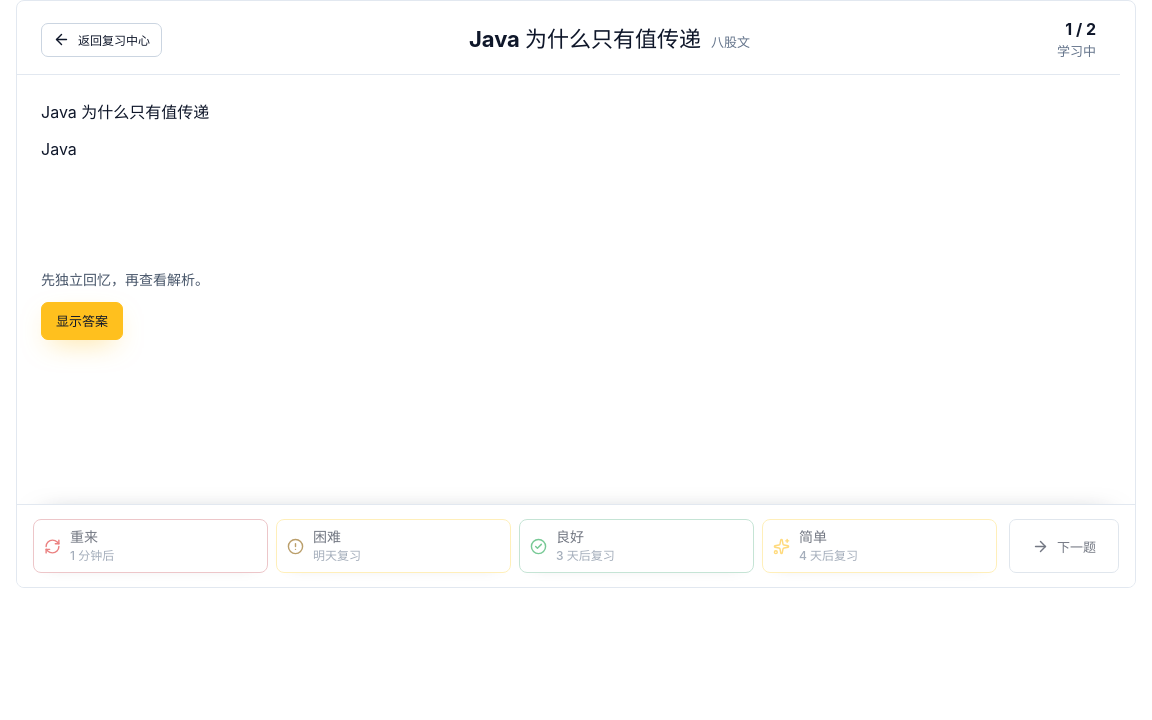
Test: 统一知识卡复习工作台 › 下一张重新隐藏答案，清空评级，加载新的详情和预览
Click the button "显示答案" at (82, 320), box [41, 302, 123, 340]
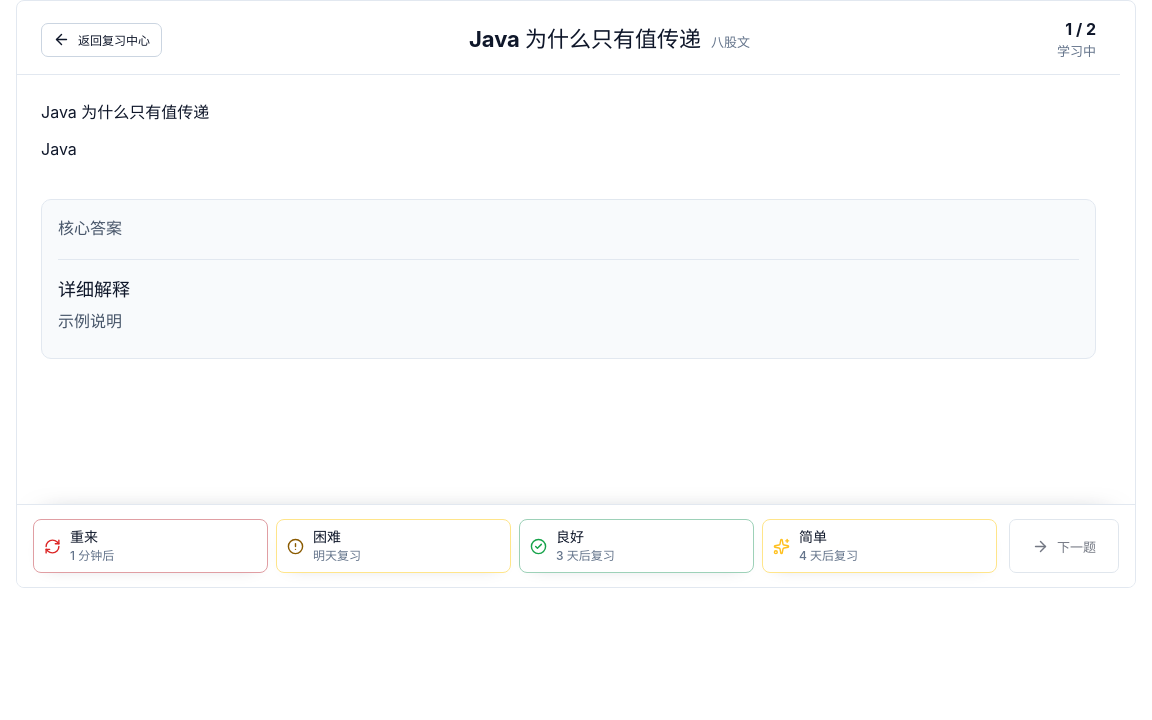
Click the button with aria-label "良好，" at (636, 546), box [519, 519, 754, 573]
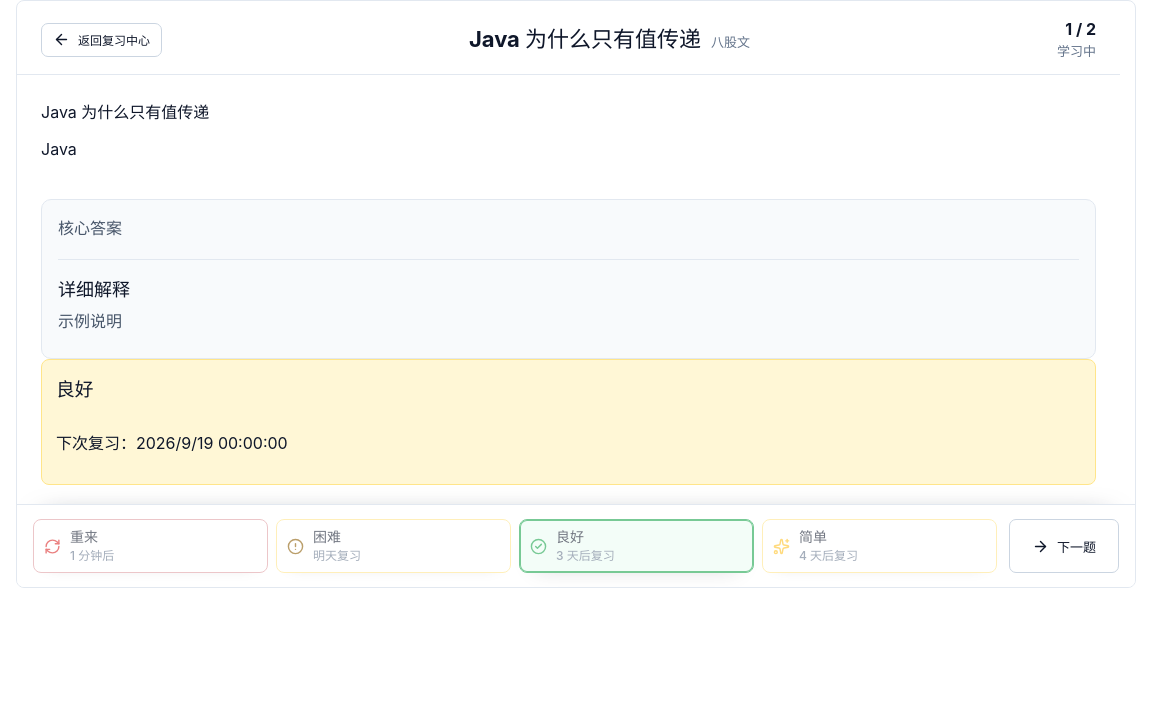
Expected: the element named "复习确认结果" is shown, [41, 359, 1096, 485]
Click the button "下一题" at (1064, 546), box [1009, 519, 1119, 573]
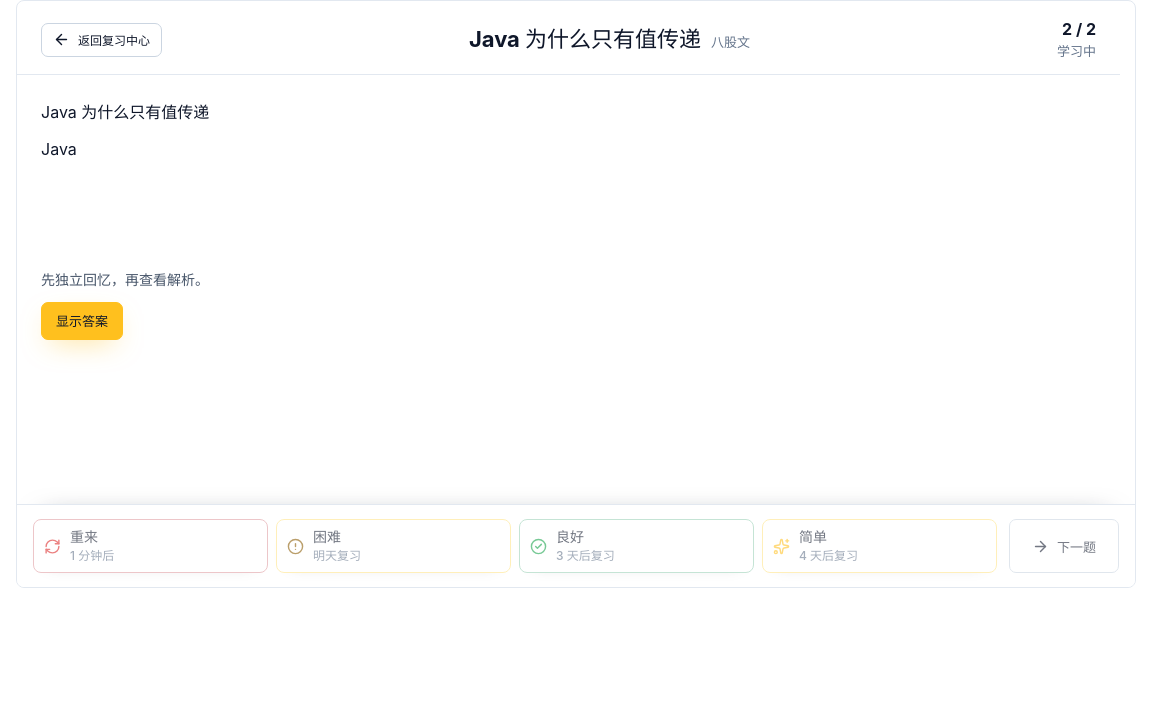
Expected: the button "显示答案" is shown, [41, 302, 123, 340]
Expected: the text "2 / 2" is shown, [1062, 19, 1096, 39]
Expected: the text "核心答案" is gone
